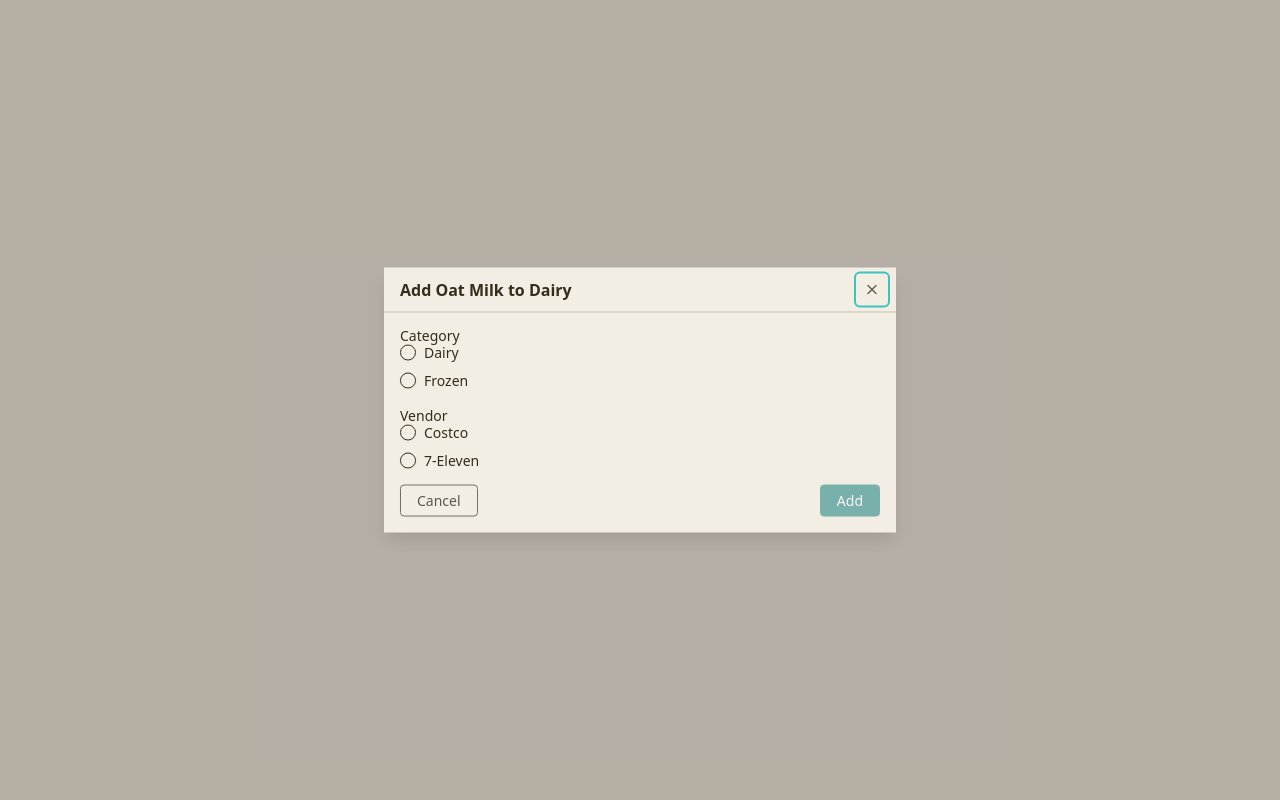
ShelfFilterPicksDialog › user cannot confirm until every open axis has a pick
This screenshot has width=1280, height=800.
Expected: the button "Add" is disabled, top-left (820, 484), bottom-right (880, 516)
// When only one axis is picked
Click the radio button named "Frozen" next to "Frozen".
click(408, 380)  # box top-left (400, 372), bottom-right (416, 388)
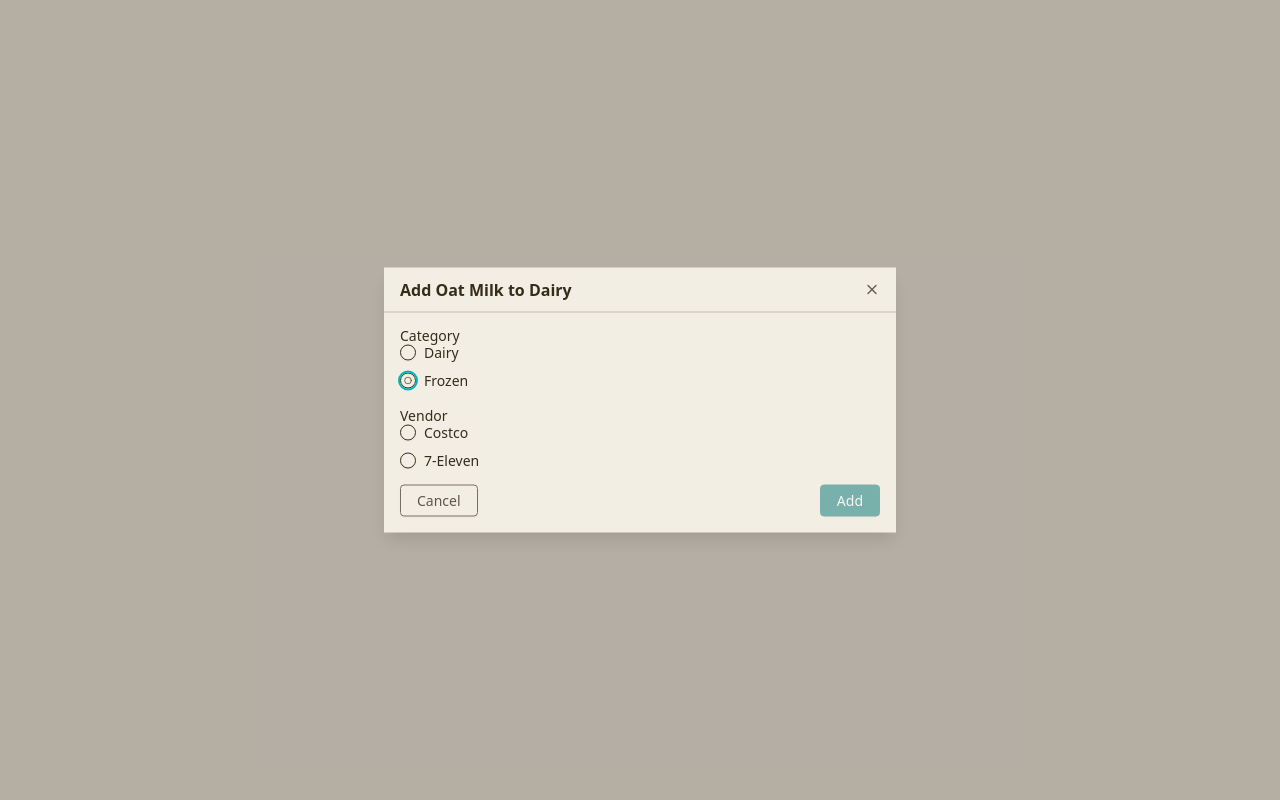
Expected: the button "Add" is disabled, top-left (820, 484), bottom-right (880, 516)
// When the second is picked too
Click the radio button named "Costco" next to "Costco".
click(408, 432)  # box top-left (400, 424), bottom-right (416, 440)
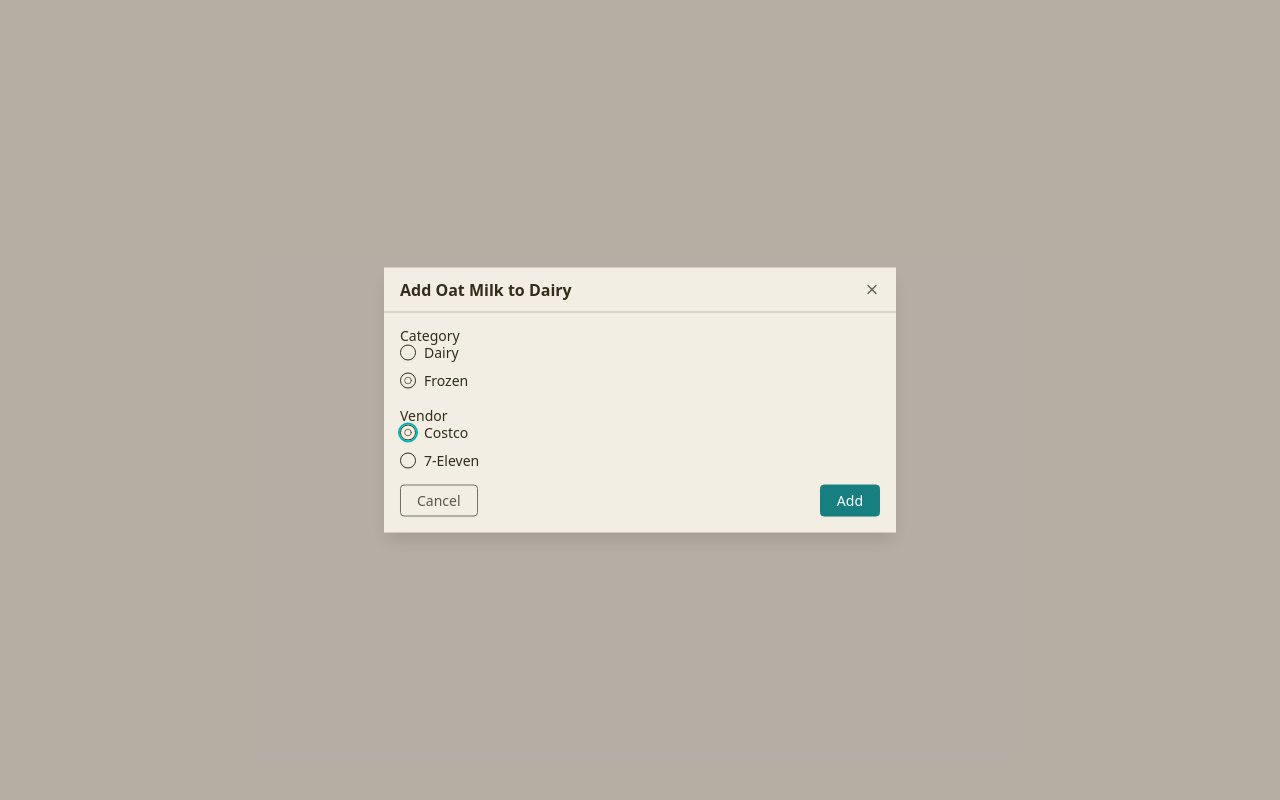
Expected: the button "Add" is enabled, top-left (820, 484), bottom-right (880, 516)
